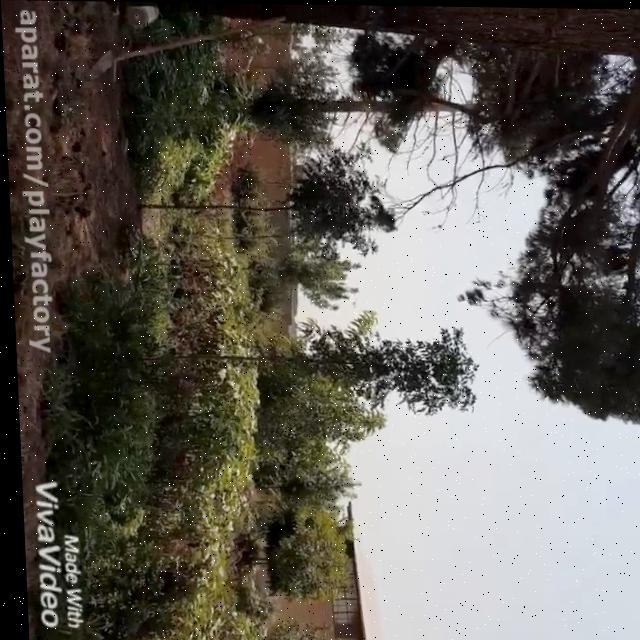drone: (348, 296, 359, 308)
